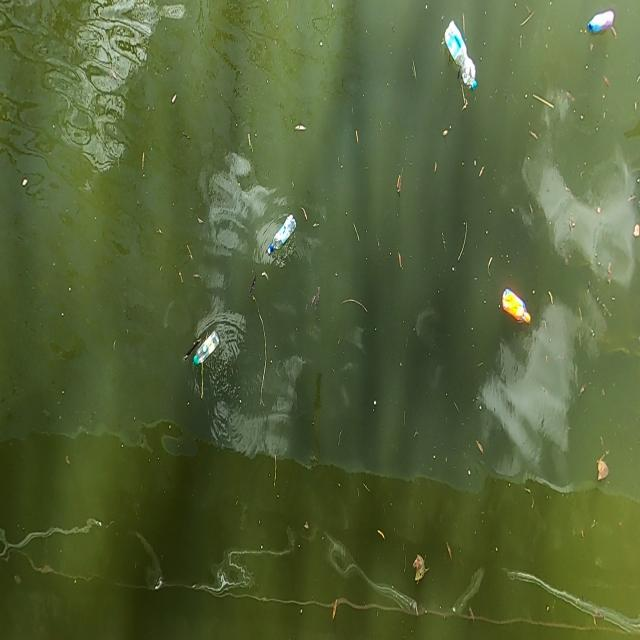Bouteille plastique: (438, 17, 484, 99), (261, 207, 304, 270), (189, 317, 223, 375), (497, 285, 537, 332), (582, 5, 620, 42)
